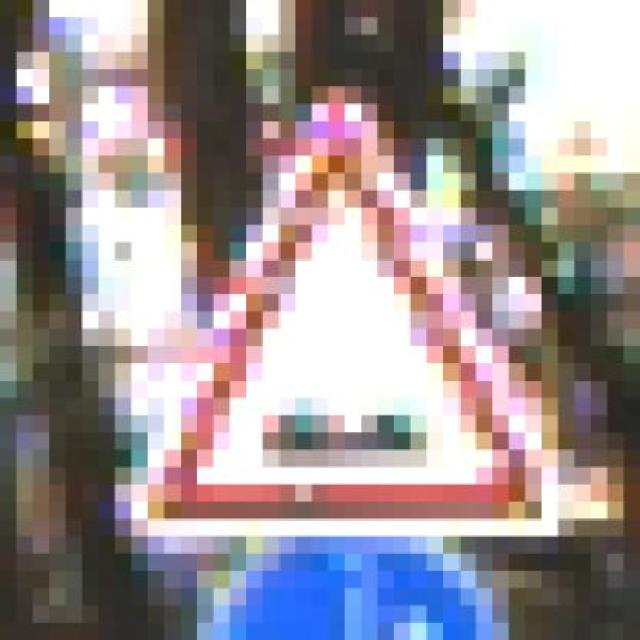Uneven Road: (115, 86, 558, 537)
